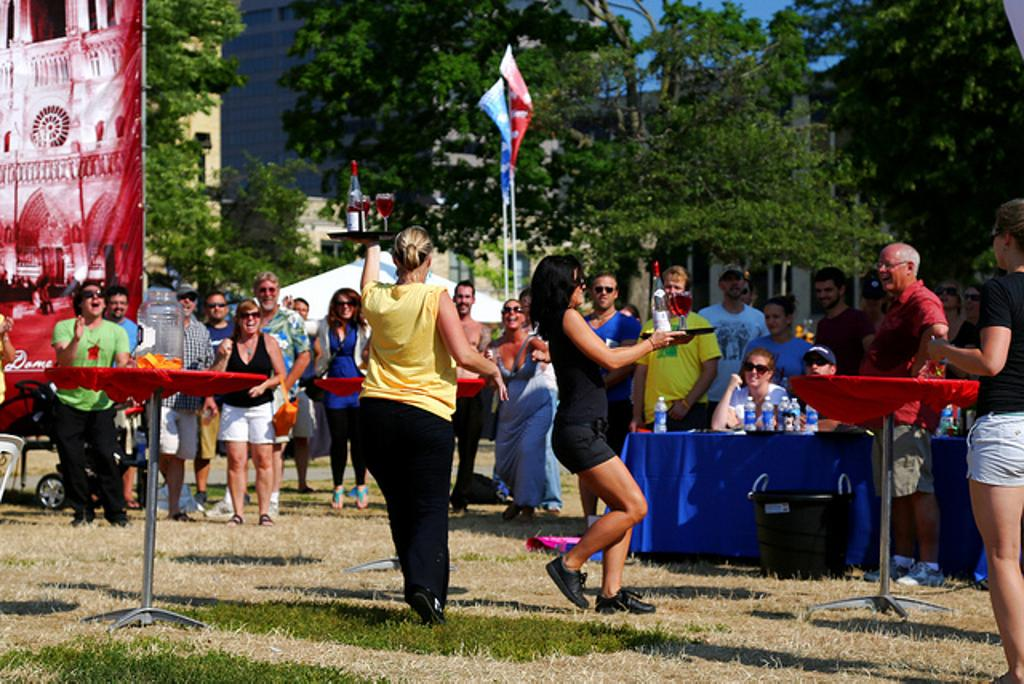face: (877, 255, 908, 291), (805, 355, 831, 386), (567, 268, 586, 303), (663, 278, 685, 307), (765, 305, 786, 335), (745, 356, 766, 386), (815, 282, 837, 309), (82, 289, 103, 316), (257, 282, 278, 309), (992, 225, 1005, 268), (593, 281, 613, 308), (724, 273, 744, 298), (935, 286, 956, 308), (240, 310, 259, 334), (455, 287, 471, 315), (962, 289, 978, 316), (336, 298, 356, 319), (734, 282, 750, 308), (109, 294, 127, 317), (503, 304, 519, 328), (865, 290, 882, 312), (207, 298, 225, 318), (179, 295, 195, 317), (520, 299, 535, 318), (292, 304, 306, 322)
